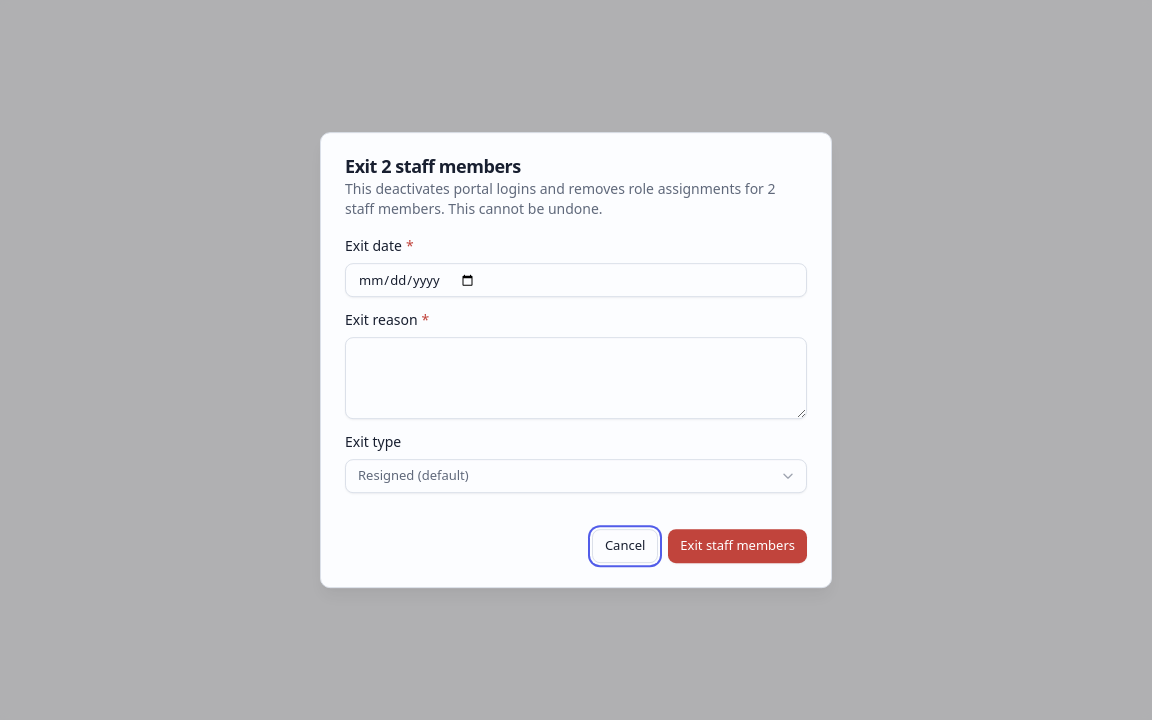
Test case: ExitStaffDialog › bulk, partial failure: does not report full success, stays open, and surfaces the real backend message
Type "2026-09-10" into the date field labelled "Exit date*" at (576, 280), box x1=345 y1=263 x2=807 y2=297
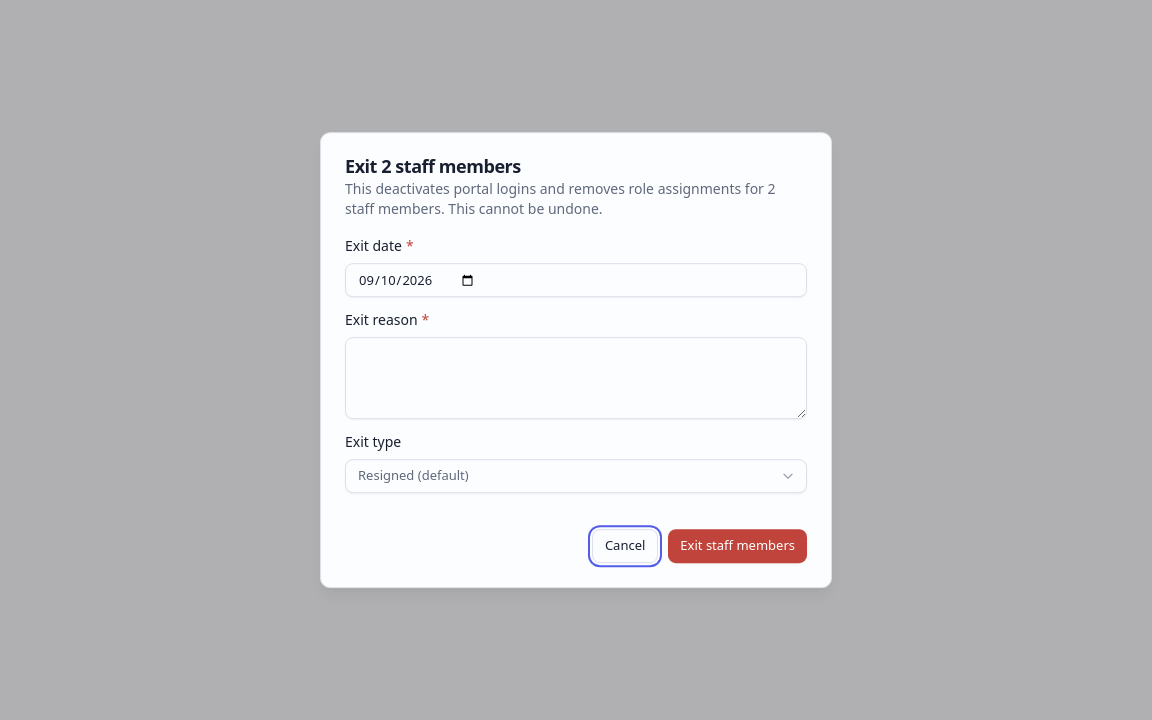
Type "Bulk exit attempt" into the text box labelled "Exit reason*" at (576, 378), box x1=345 y1=337 x2=807 y2=419
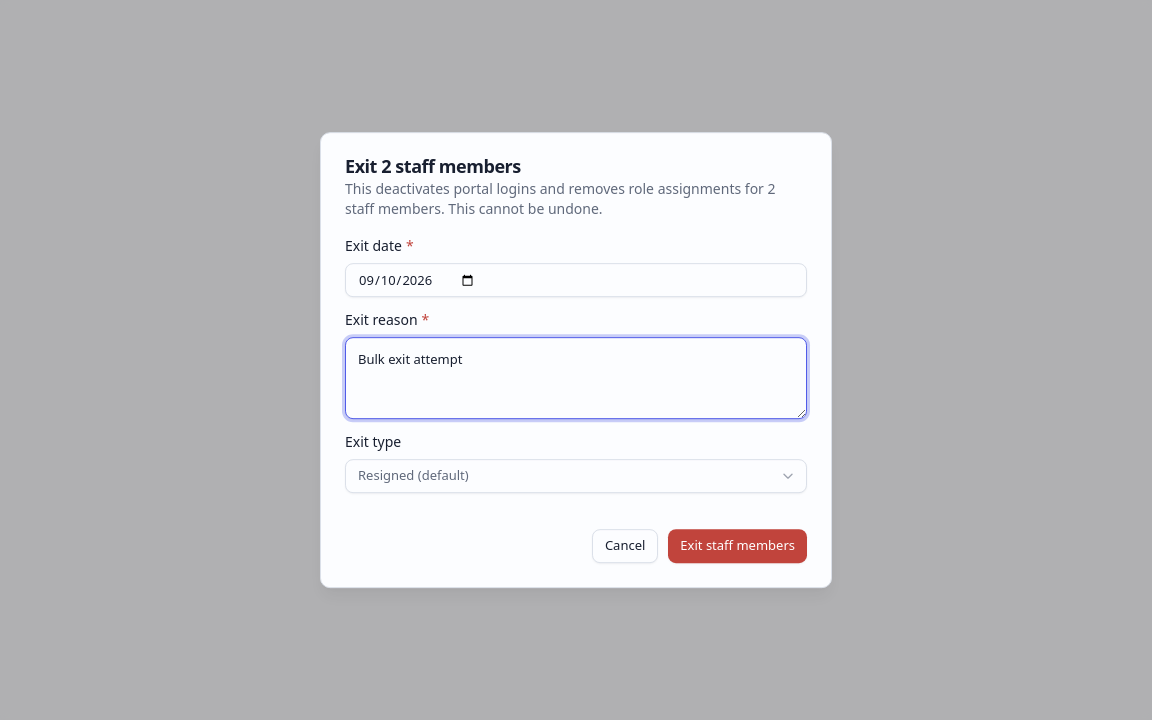
Click the button "Exit staff members" at (738, 546), box x1=668 y1=529 x2=807 y2=563
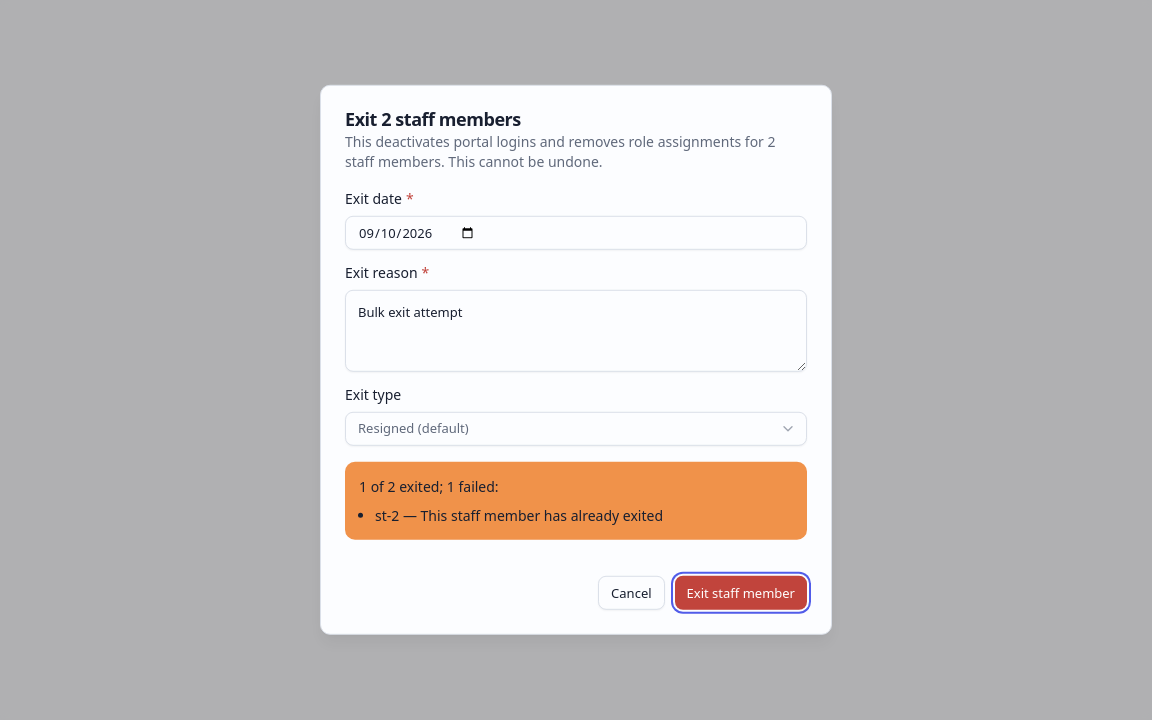
Result: the list item "st-2 — This staff member has already exited" is shown at x1=375 y1=506 x2=663 y2=526
